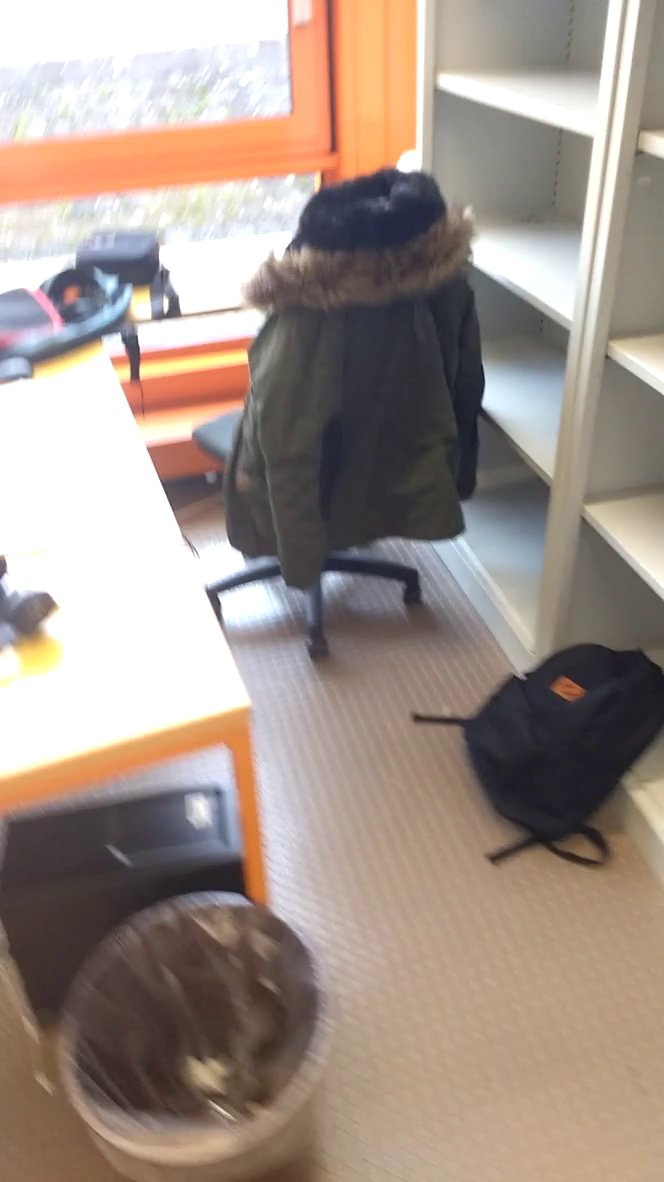bag: (453, 630, 664, 875)
bin: (47, 873, 360, 1182)
